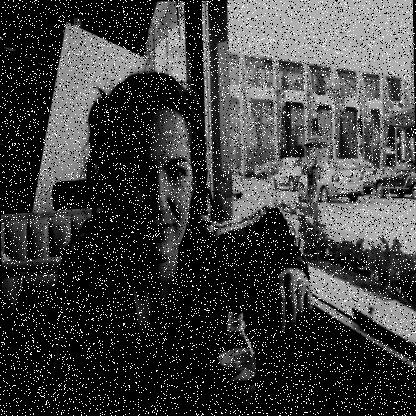Car: (297, 158, 363, 204), (372, 158, 415, 202), (273, 158, 307, 192), (350, 158, 376, 195), (254, 161, 283, 178), (231, 167, 242, 200)
